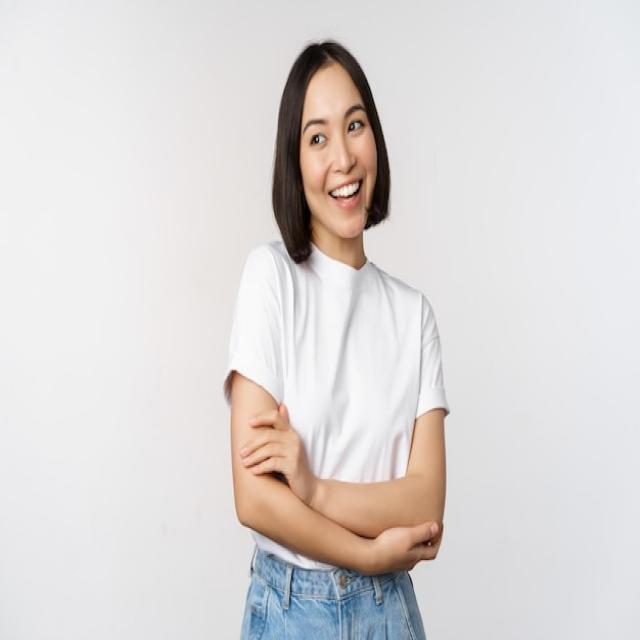Person: (224, 38, 449, 640)
